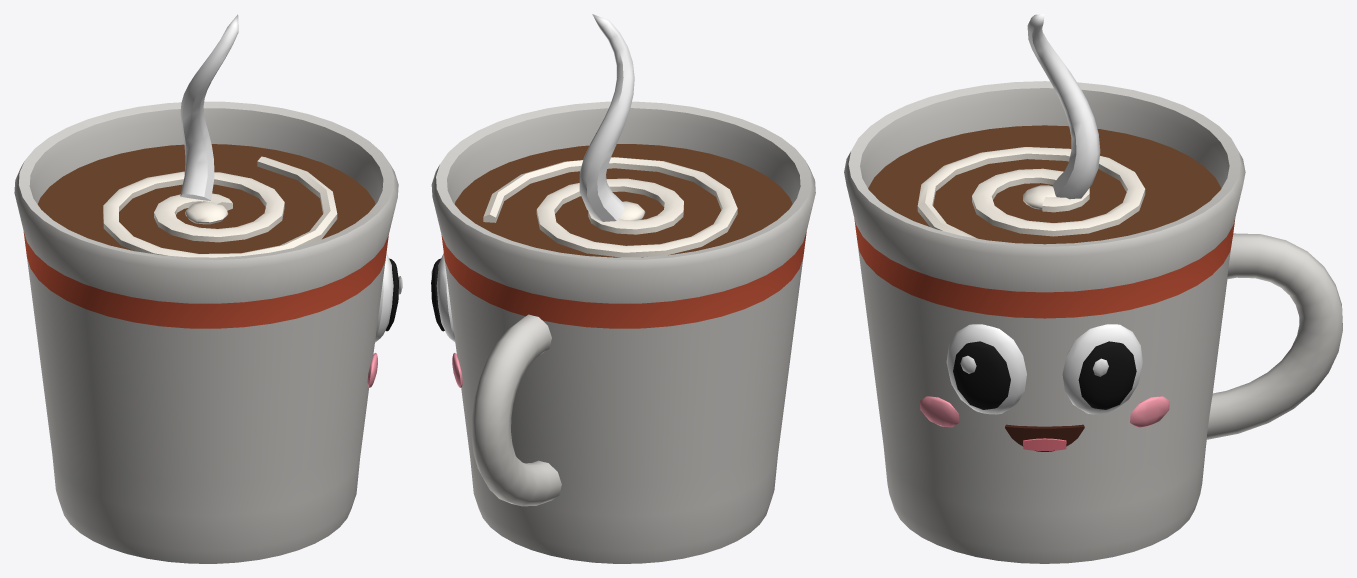
The model's file is acc_myth_coffee.glb.
3 renders of one model, left to right at view 1: azimuth 30°, elevation 25°; view 2: azimuth 150°, elevation 25°; view 3: azimuth 270°, elevation 25°, orthographic. The views are drawn at different scales.
Visible parts, largest first — view 1: CoffeeHead; view 2: CoffeeHead; view 3: CoffeeHead.
Boxes of the visible parts, box(x1,y1,x2,y2) form: CoffeeHead: box(14, 14, 402, 563); CoffeeHead: box(431, 14, 815, 563); CoffeeHead: box(844, 14, 1342, 563).
Size of the model in its own units: 0.528 by 0.735 by 0.656.
